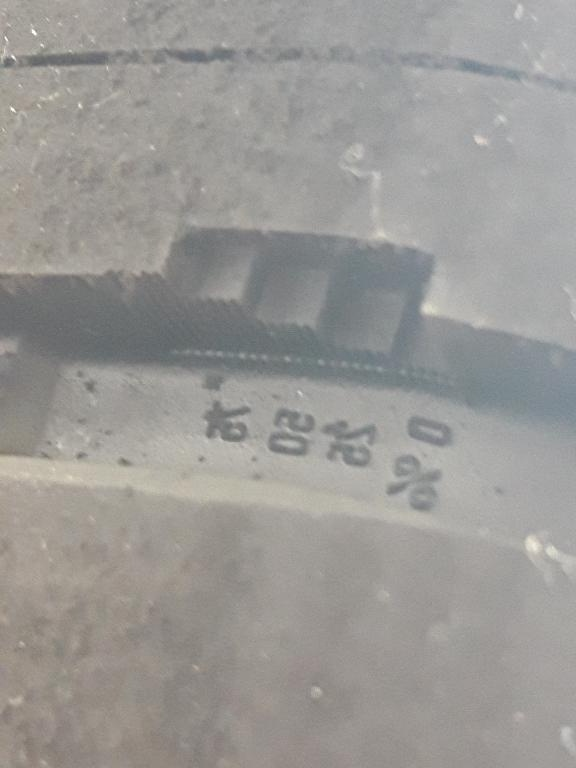temoin:95: (96, 206, 472, 413)
